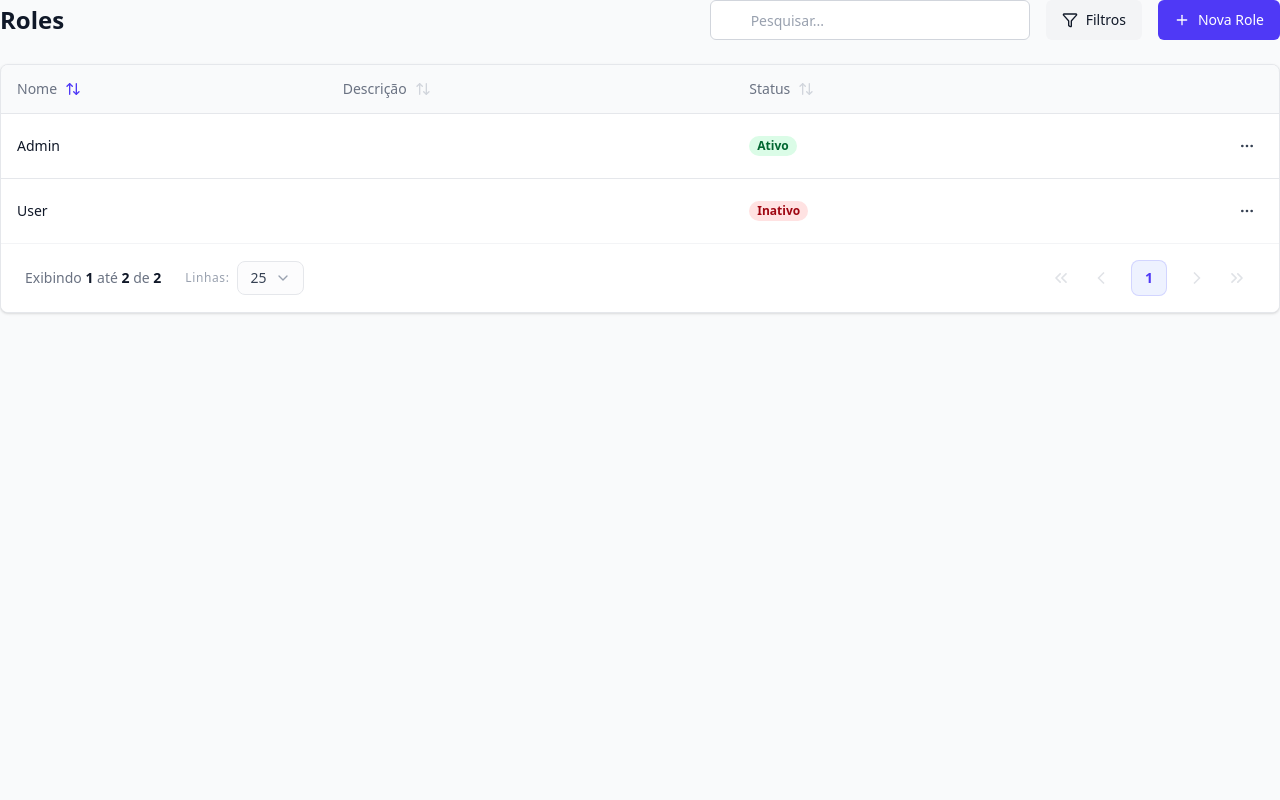
Test: RoleListPage › handles delete mutation error
expect the text "Admin" is shown: met, box [17,136,60,154]
Click the button named "Abrir menu" in the row of "Admin" at (1247, 146), box [1231,130,1263,162]
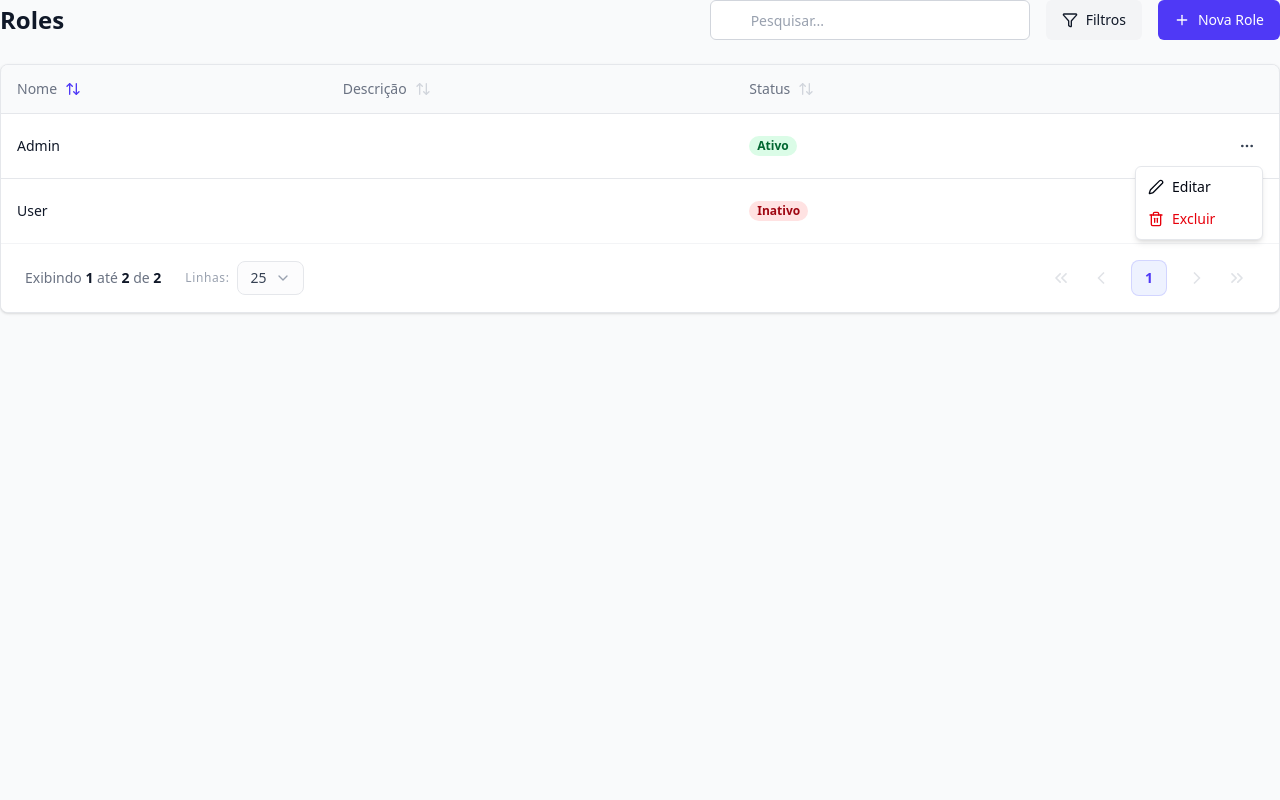
Click the menu item "Excluir" at (1182, 218), box [1148,209,1215,228]
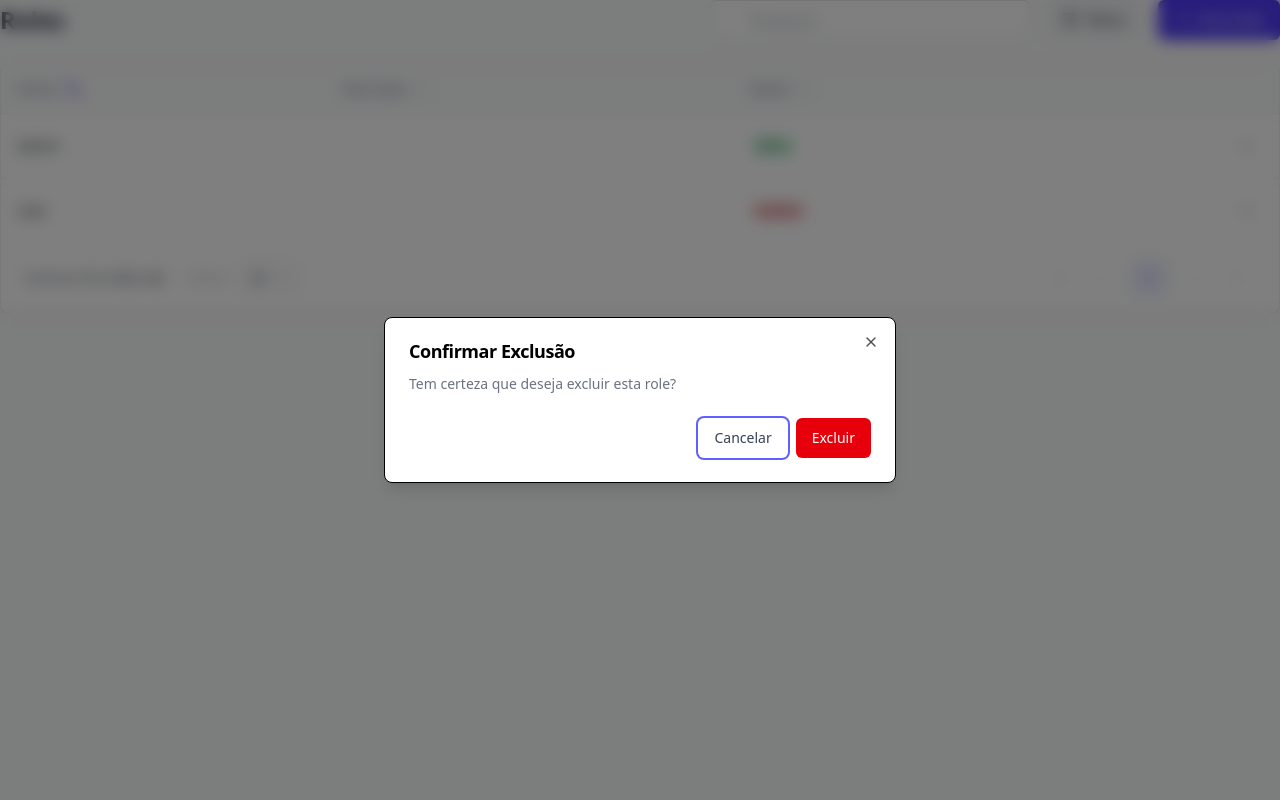
Click the button "Excluir" at (833, 438), box [796,418,871,458]
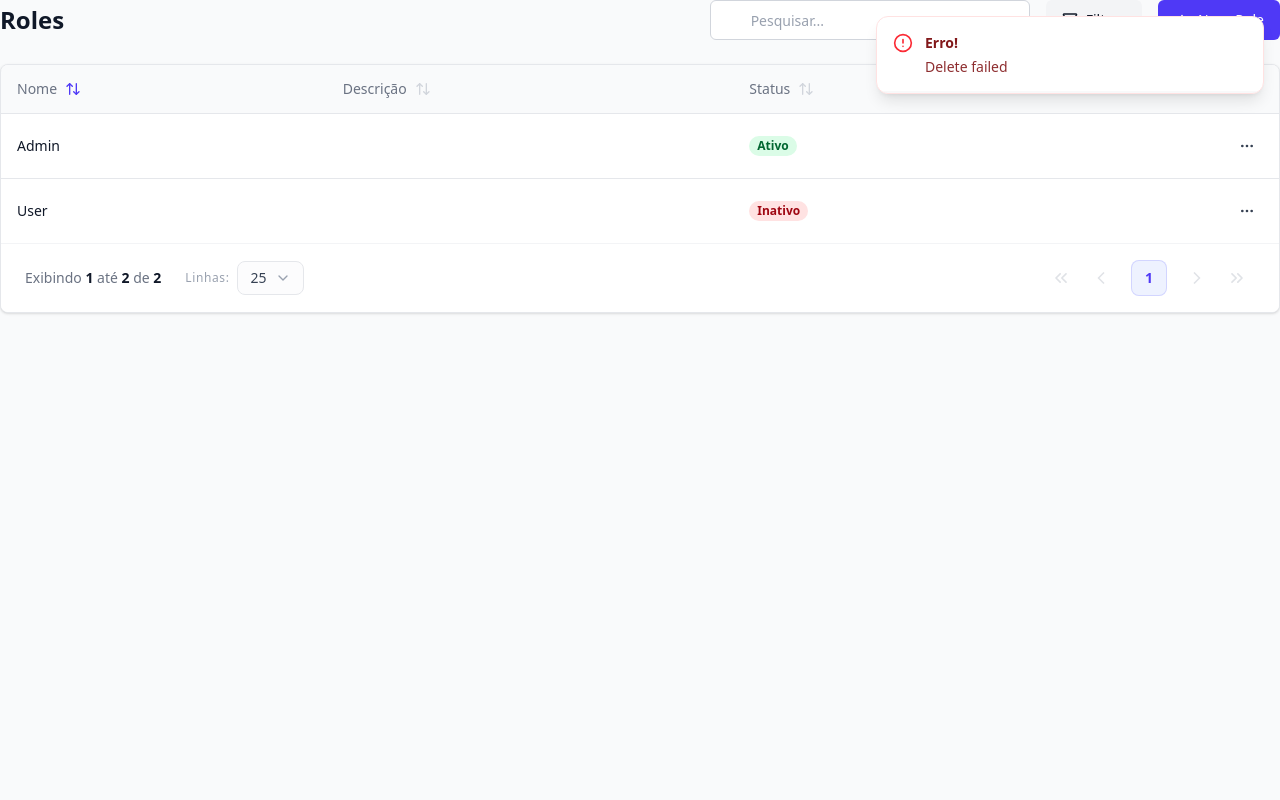
expect the text "Delete failed" is shown: met, box [925,57,1008,77]
